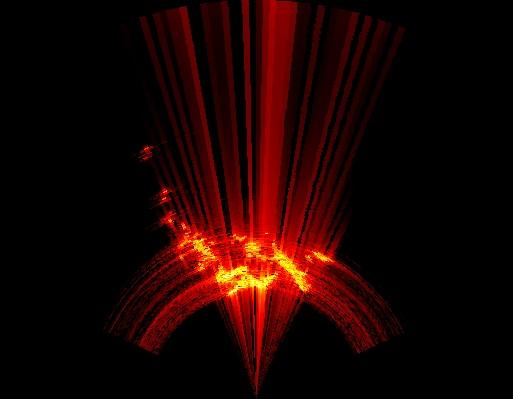shipwreck: (179, 223, 309, 295), (306, 251, 332, 262)
